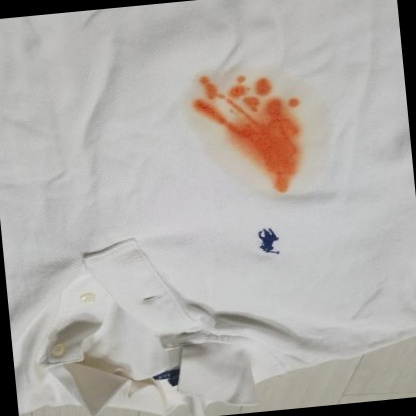kimchi: (189, 64, 335, 203), (230, 122, 301, 160), (257, 154, 303, 196), (184, 97, 227, 127), (193, 74, 221, 100), (241, 94, 264, 119), (266, 93, 289, 118), (254, 75, 276, 100), (229, 85, 251, 102), (291, 96, 302, 111), (237, 73, 250, 85)
